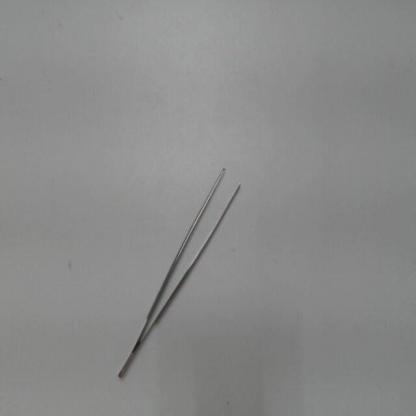Gillies Toothed Dissector: (111, 158, 259, 392)
